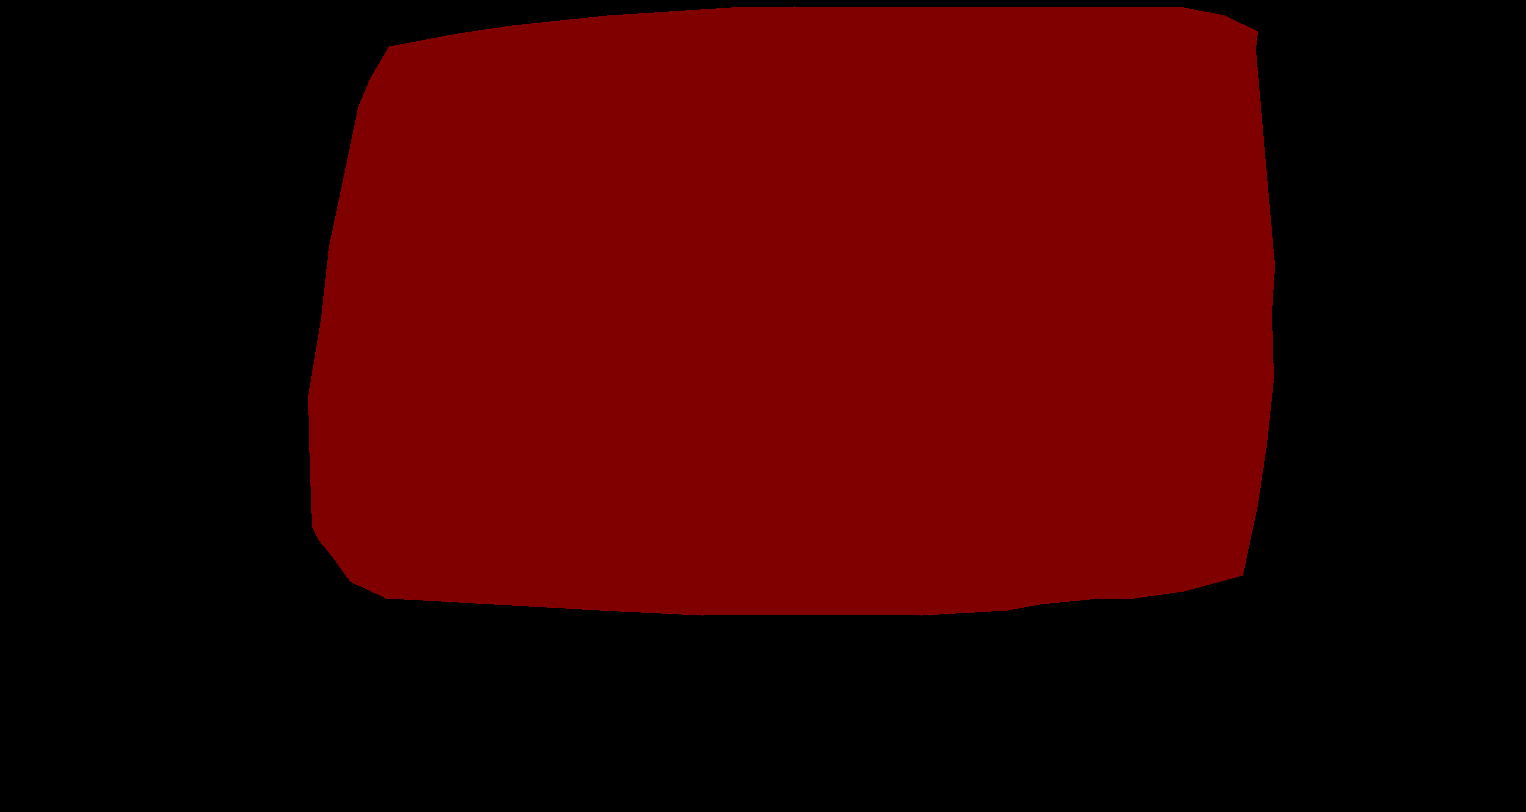sign: (308, 6, 1274, 615)
